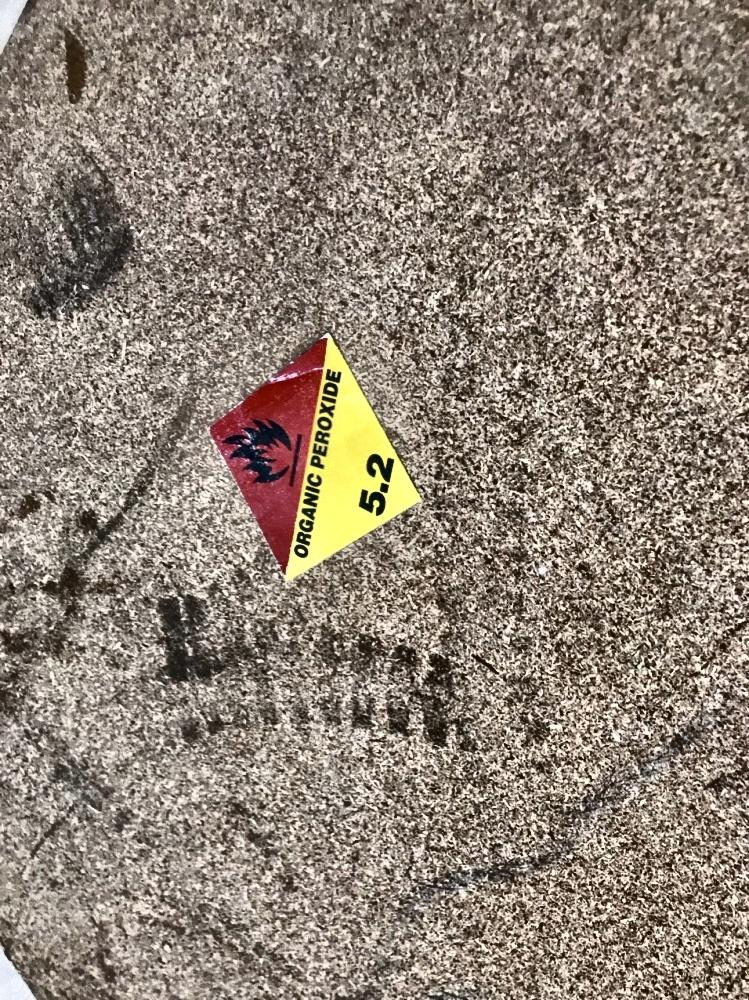organic-peroxide: (212, 325, 421, 585)
